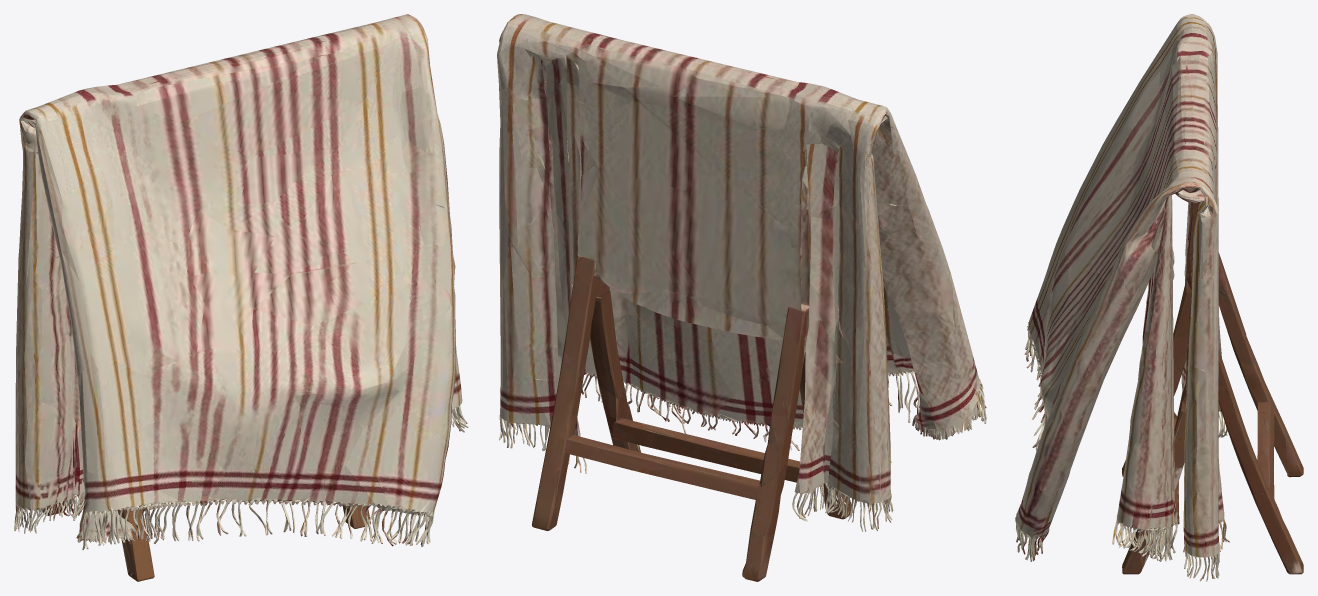
File: lamba.glb
3 renders of one model, left to right at view 1: azimuth 30°, elevation 25°; view 2: azimuth 150°, elevation 25°; view 3: azimuth 270°, elevation 25°, orthographic. The views are drawn at different scales.
Bounding box in the file's own units: 1.85 × 1.9 × 1.16.
1 material, 1 textured.
